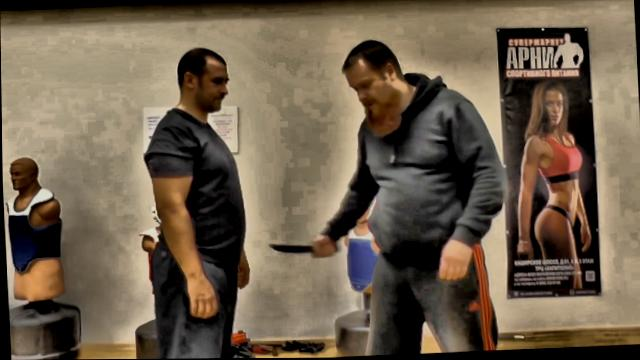knife: (265, 234, 342, 263)
